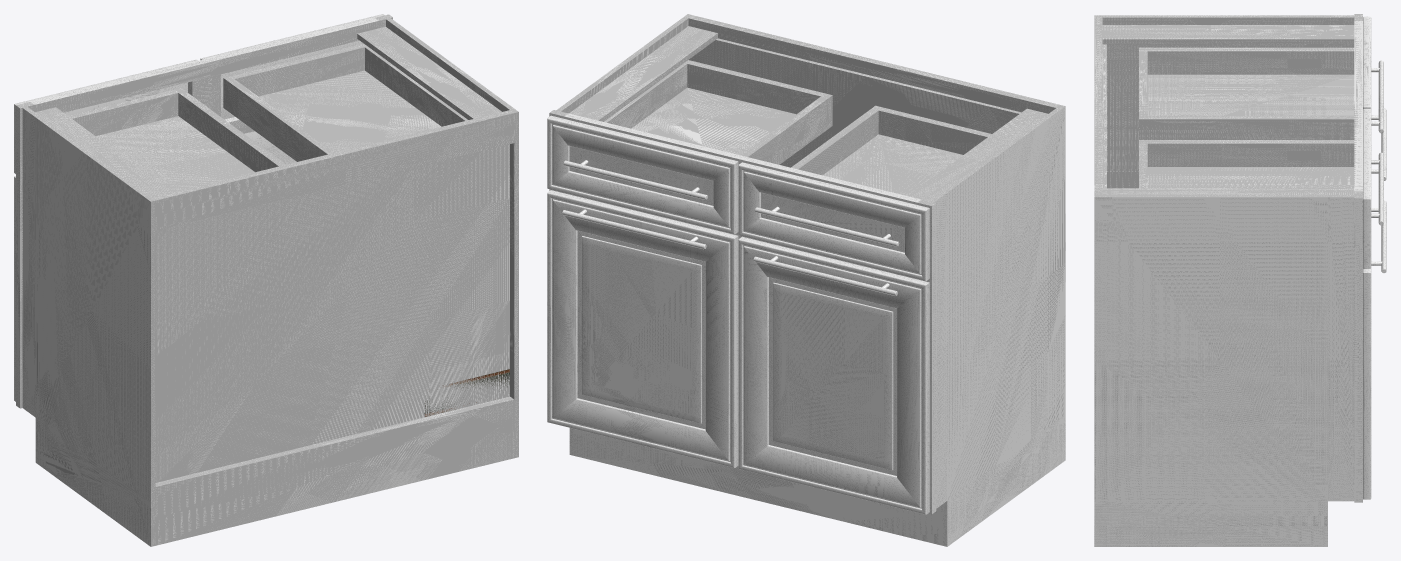
The picture shows the model from 3 angles, left to right: view 1: azimuth 30°, elevation 25°; view 2: azimuth 150°, elevation 25°; view 3: azimuth 270°, elevation 25°; orthographic projection. The views are drawn at different scales.
Visible parts, largest first — view 1: mesh5_mesh5-geometry, mesh8_mesh8-geometry, mesh14_mesh14-geometry, mesh22_mesh22-geometry, mesh4_mesh4-geometry, mesh19_mesh19-geometry, mesh6_mesh6-geometry, mesh20_mesh20-geometry, mesh9_mesh9-geometry, mesh7_mesh7-geometry, mesh11_mesh11-geometry, mesh16_mesh16-geometry (+5 smaller); view 2: mesh8_mesh8-geometry, mesh41_mesh41-geometry, mesh51_mesh51-geometry, mesh22_mesh22-geometry, mesh5_mesh5-geometry, mesh15_mesh15-geometry, mesh19_mesh19-geometry, mesh45_mesh45-geometry, mesh59_mesh59-geometry, mesh30_mesh30-geometry, mesh20_mesh20-geometry, mesh58_mesh58-geometry (+32 smaller); view 3: mesh11_mesh11-geometry, mesh19_mesh19-geometry, mesh22_mesh22-geometry, mesh12_mesh12-geometry, mesh10_mesh10-geometry, mesh8_mesh8-geometry, mesh17_mesh17-geometry, mesh3_mesh3-geometry, mesh16_mesh16-geometry, mesh4_mesh4-geometry, mesh6_mesh6-geometry, mesh44_mesh44-geometry (+9 smaller).
Boxes of the visible parts, left/top/right/bottom form: mesh5_mesh5-geometry: left=155, top=144, right=509, bottom=482; mesh8_mesh8-geometry: left=35, top=116, right=155, bottom=501; mesh14_mesh14-geometry: left=155, top=396, right=514, bottom=545; mesh22_mesh22-geometry: left=96, top=70, right=441, bottom=192; mesh4_mesh4-geometry: left=152, top=110, right=514, bottom=230; mesh19_mesh19-geometry: left=174, top=43, right=468, bottom=172; mesh6_mesh6-geometry: left=30, top=18, right=378, bottom=133; mesh20_mesh20-geometry: left=68, top=44, right=364, bottom=135; mesh9_mesh9-geometry: left=35, top=418, right=155, bottom=546; mesh7_mesh7-geometry: left=22, top=106, right=39, bottom=417; mesh11_mesh11-geometry: left=399, top=27, right=518, bottom=412; mesh16_mesh16-geometry: left=357, top=26, right=501, bottom=119; mesh8_mesh8-geometry: left=942, top=105, right=1065, bottom=500; mesh41_mesh41-geometry: left=590, top=246, right=692, bottom=413; mesh51_mesh51-geometry: left=781, top=293, right=883, bottom=460; mesh22_mesh22-geometry: left=631, top=87, right=962, bottom=195; mesh5_mesh5-geometry: left=689, top=38, right=1021, bottom=167; mesh15_mesh15-geometry: left=574, top=429, right=942, bottom=545; mesh19_mesh19-geometry: left=604, top=60, right=882, bottom=175; mesh45_mesh45-geometry: left=692, top=271, right=738, bottom=424; mesh59_mesh59-geometry: left=883, top=318, right=929, bottom=471; mesh30_mesh30-geometry: left=581, top=124, right=894, bottom=225; mesh20_mesh20-geometry: left=687, top=61, right=991, bottom=154; mesh58_mesh58-geometry: left=738, top=283, right=781, bottom=435; mesh11_mesh11-geometry: left=1094, top=195, right=1327, bottom=501; mesh19_mesh19-geometry: left=1139, top=47, right=1354, bottom=166; mesh22_mesh22-geometry: left=1147, top=74, right=1354, bottom=188; mesh12_mesh12-geometry: left=1094, top=501, right=1327, bottom=546; mesh10_mesh10-geometry: left=1328, top=195, right=1354, bottom=501; mesh8_mesh8-geometry: left=1094, top=15, right=1327, bottom=188; mesh17_mesh17-geometry: left=1102, top=25, right=1354, bottom=44; mesh3_mesh3-geometry: left=1354, top=14, right=1362, bottom=502; mesh16_mesh16-geometry: left=1102, top=188, right=1354, bottom=194; mesh4_mesh4-geometry: left=1094, top=17, right=1102, bottom=194; mesh6_mesh6-geometry: left=1354, top=21, right=1362, bottom=191; mesh44_mesh44-geometry: left=1363, top=315, right=1371, bottom=456.
Bounding box in the file's own units: 0.6695 × 0.5922 × 0.4485.
